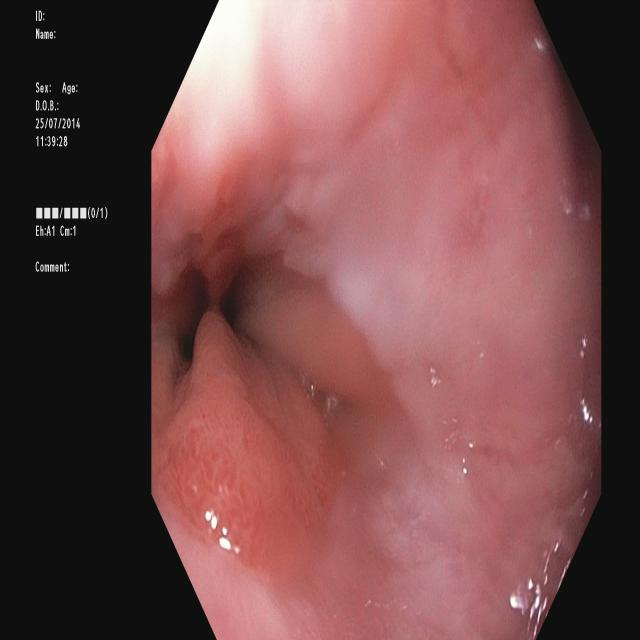Normal-Z-Line: (152, 222, 412, 600)
